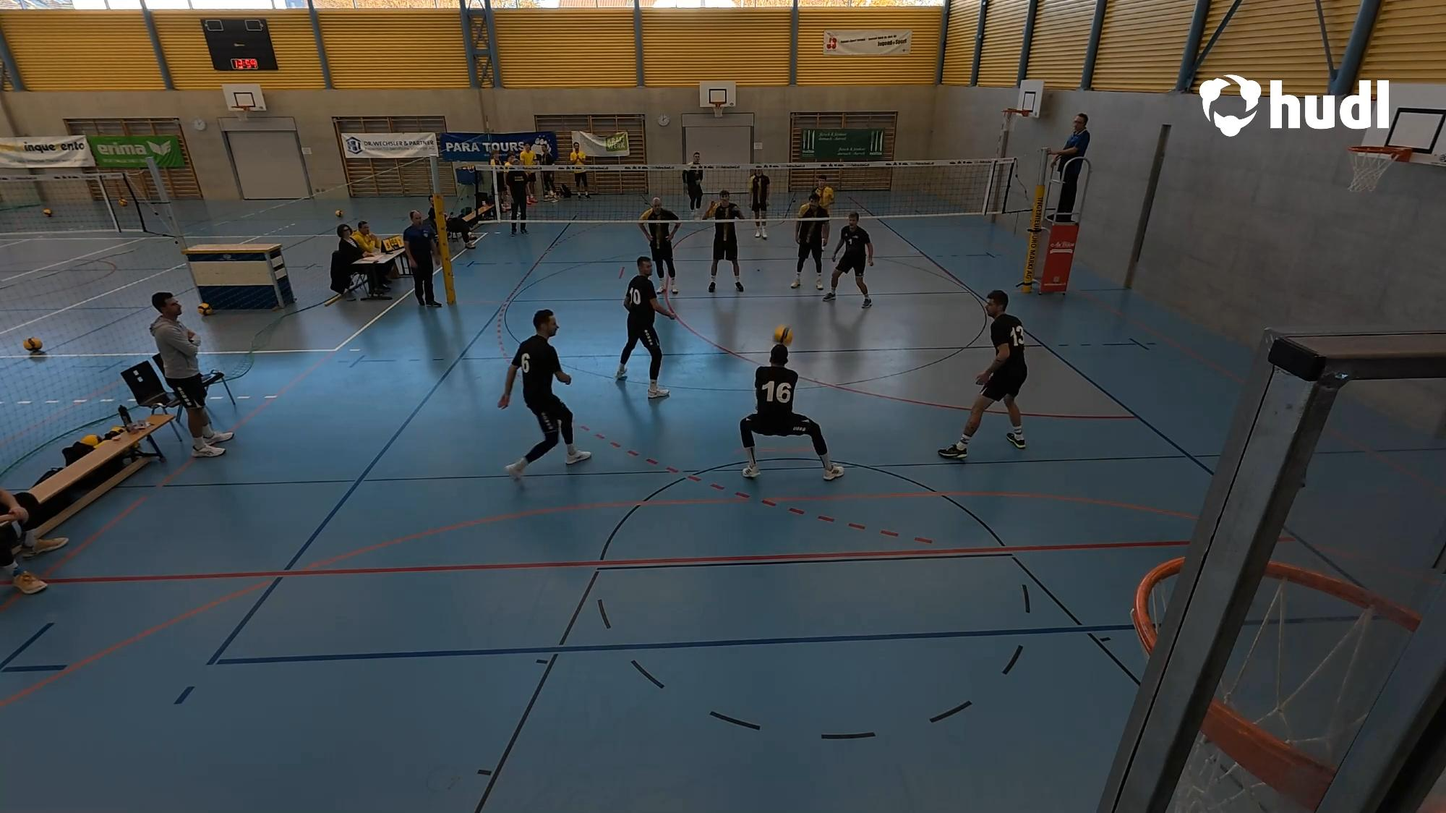Player: (935, 289, 1032, 461), (500, 310, 591, 492), (615, 257, 679, 396), (641, 195, 686, 299), (827, 209, 873, 305), (705, 191, 744, 297), (791, 192, 826, 293), (747, 161, 773, 238), (681, 152, 708, 218), (815, 177, 837, 249)
Receive: (738, 339, 846, 484)
ball: (769, 322, 795, 348)
